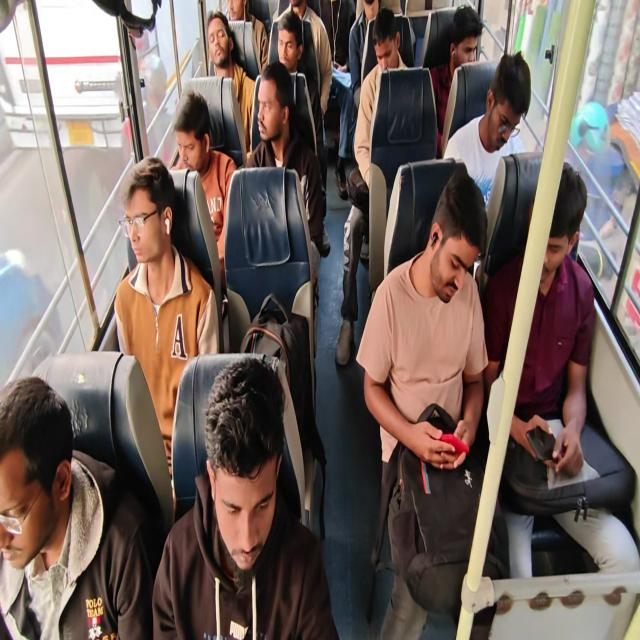person: (0, 387, 104, 640), (200, 358, 290, 605), (115, 176, 215, 344), (522, 157, 587, 290), (436, 203, 494, 346), (249, 58, 295, 206), (170, 95, 232, 202), (492, 52, 536, 175), (316, 0, 359, 70), (205, 12, 239, 100), (374, 16, 410, 76), (450, 11, 480, 63), (284, 14, 306, 70), (225, 4, 255, 32), (359, 0, 381, 27), (288, 0, 302, 19)
